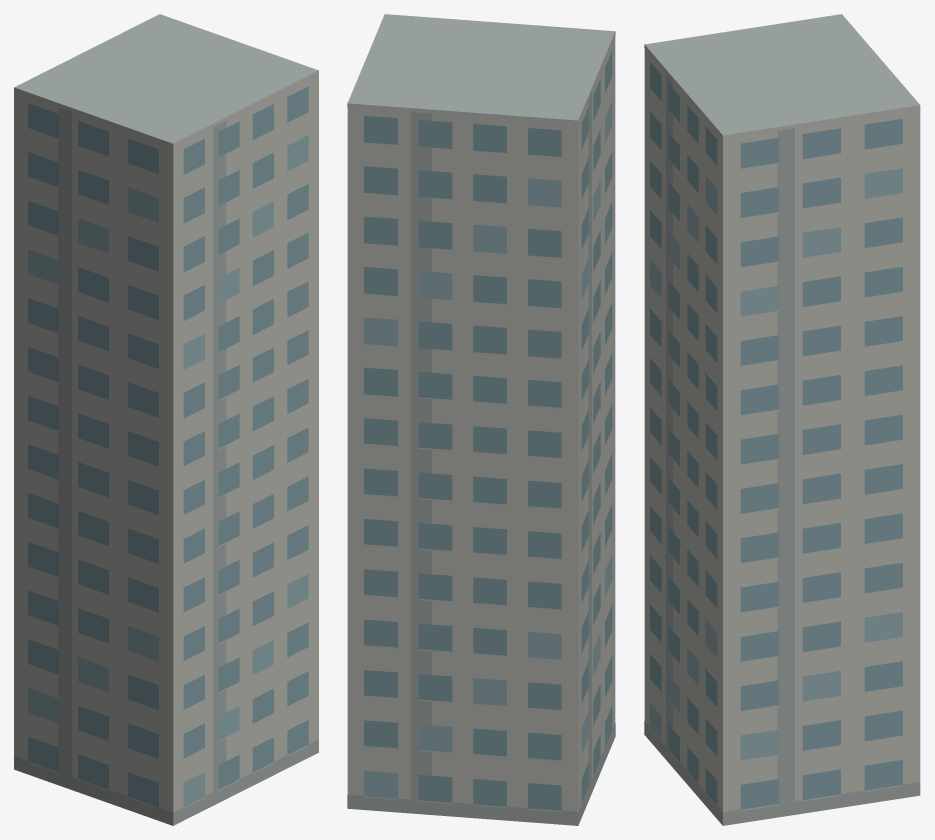
File: residential-a99d1327-662a-4e7a-b750-13eb1e9deff8.glb
3 renders of one model, left to right at view 1: azimuth 30°, elevation 25°; view 2: azimuth 150°, elevation 25°; view 3: azimuth 270°, elevation 25°, orthographic. The views are drawn at different scales.
Visible parts, largest first — view 1: residential-a99d1327-662a-4e7a-b750-13eb1e9deff8.tmp; view 2: residential-a99d1327-662a-4e7a-b750-13eb1e9deff8.tmp; view 3: residential-a99d1327-662a-4e7a-b750-13eb1e9deff8.tmp.
Boxes of the visible parts, bbox=[...] form: residential-a99d1327-662a-4e7a-b750-13eb1e9deff8.tmp: bbox=[14, 14, 318, 825]; residential-a99d1327-662a-4e7a-b750-13eb1e9deff8.tmp: bbox=[347, 14, 615, 825]; residential-a99d1327-662a-4e7a-b750-13eb1e9deff8.tmp: bbox=[644, 14, 920, 825].
Bounding box in the file's own units: 16.61 × 44 × 15.94.
